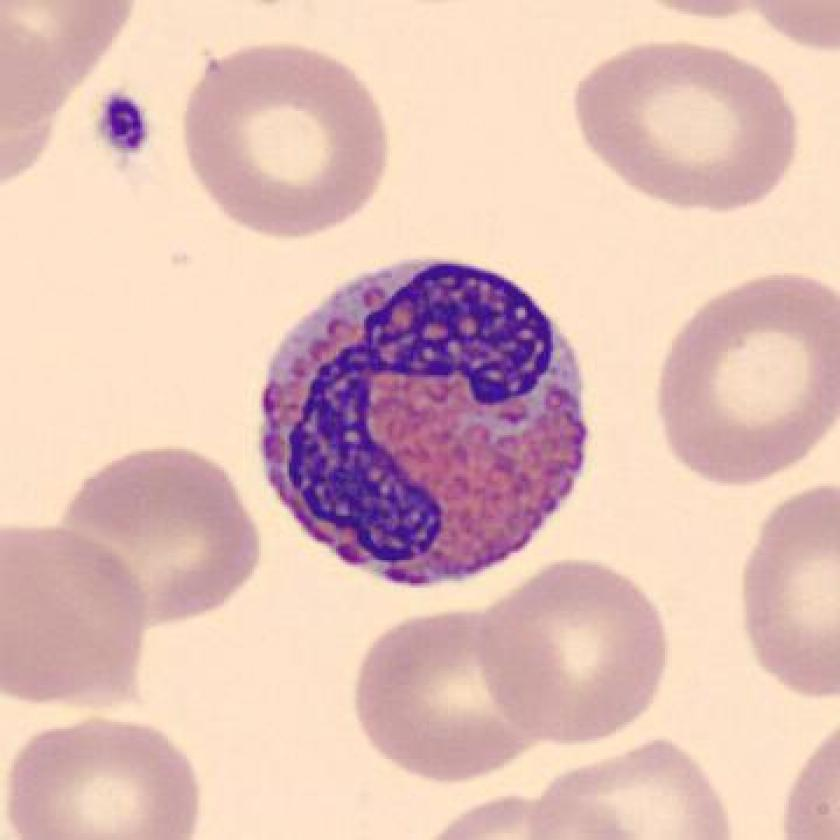eosinophil: (246, 249, 603, 603)
